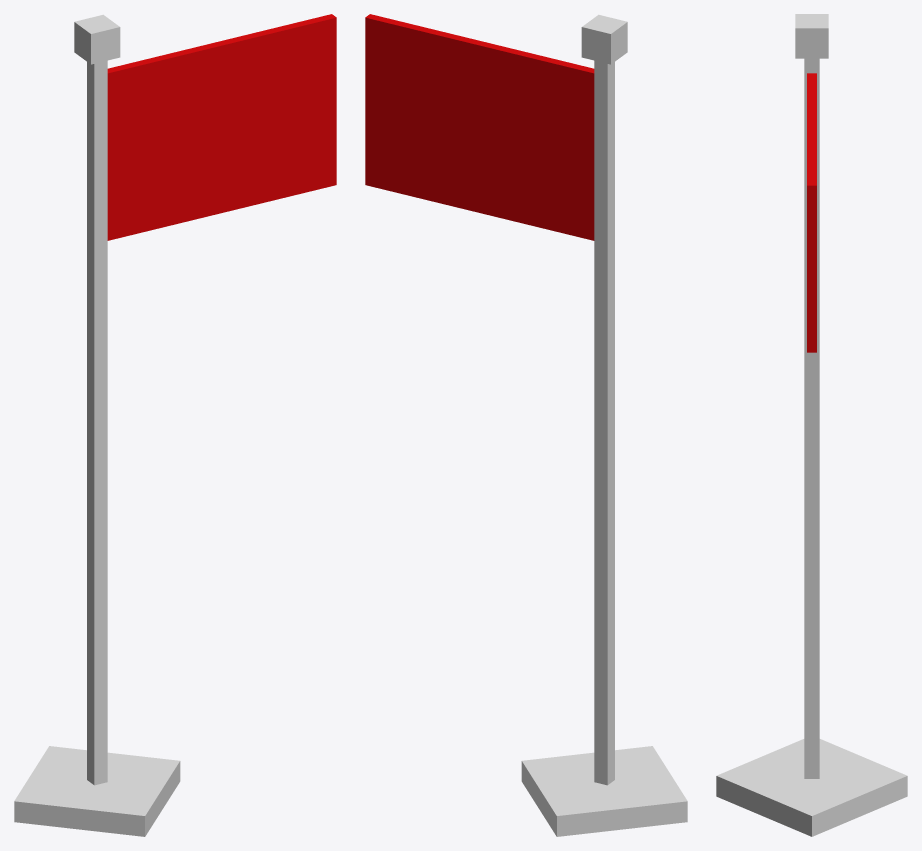
File: Flag.fbx
The picture shows the model from 3 angles, left to right: view 1: azimuth 30°, elevation 25°; view 2: azimuth 150°, elevation 25°; view 3: azimuth 270°, elevation 25°; orthographic projection.
Parts seen in each view (by area): view 1: Cube.001, Cube.003; view 2: Cube.001, Cube.003; view 3: Cube.003, Cube.001.
Part boxes in pixels (bbox=[...]): Cube.001: bbox=[107, 14, 336, 240]; Cube.003: bbox=[14, 14, 180, 836]; Cube.001: bbox=[365, 14, 594, 240]; Cube.003: bbox=[521, 14, 687, 836]; Cube.003: bbox=[716, 14, 907, 836]; Cube.001: bbox=[807, 73, 816, 352].
Bounding box in the file's own units: 1122 × 582 × 2604.
